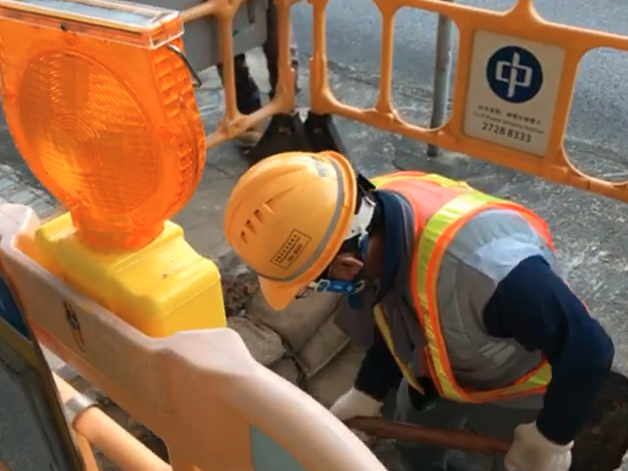Hard Hat: (223, 152, 376, 309)
Person: (223, 149, 613, 470)
Vest: (360, 168, 563, 408)
